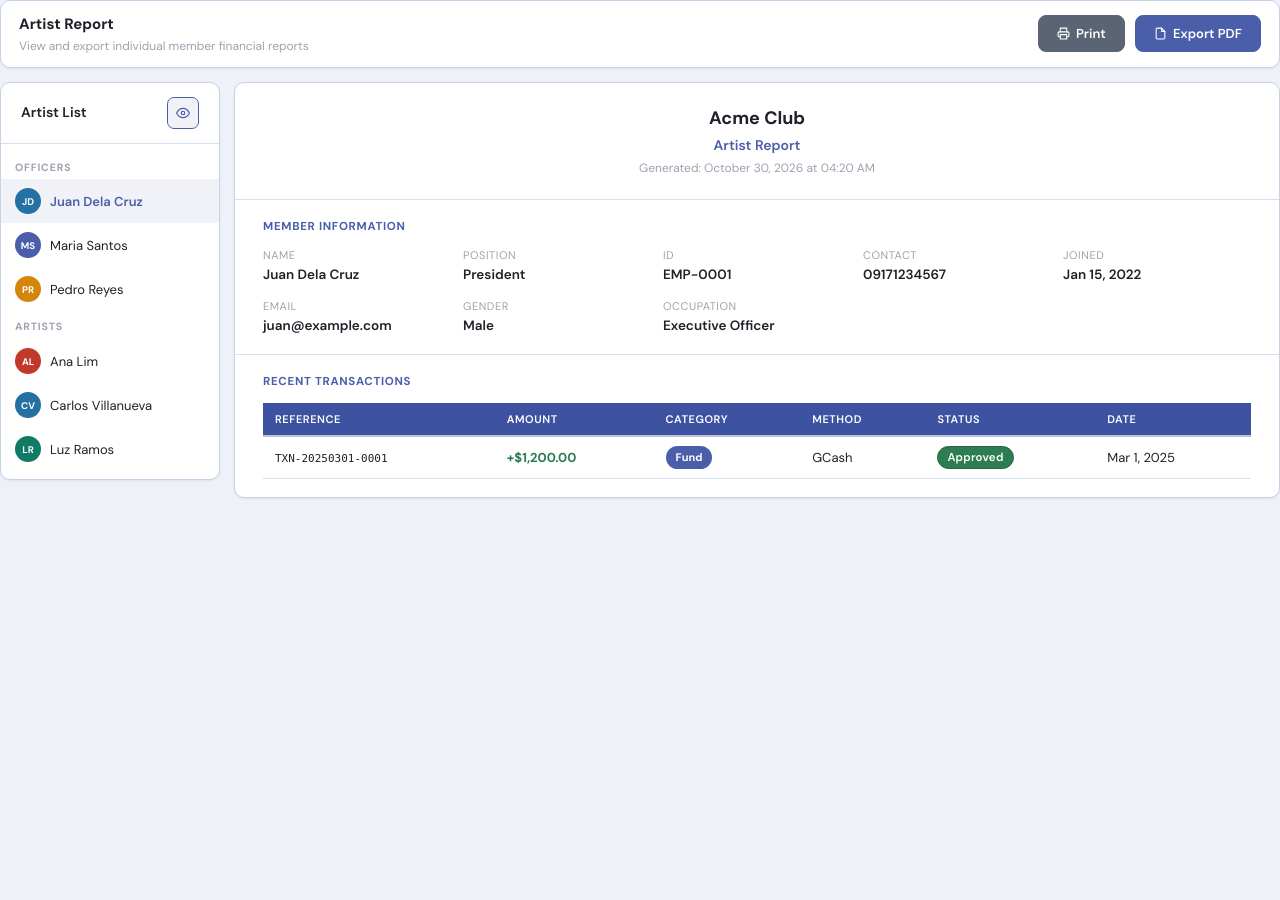
Test: Employee Report wording (B-53) and org name in report headers (B-36) › the export confirmation title uses the label
Click the button "Export PDF" at (1198, 34), box [1135, 15, 1261, 52]
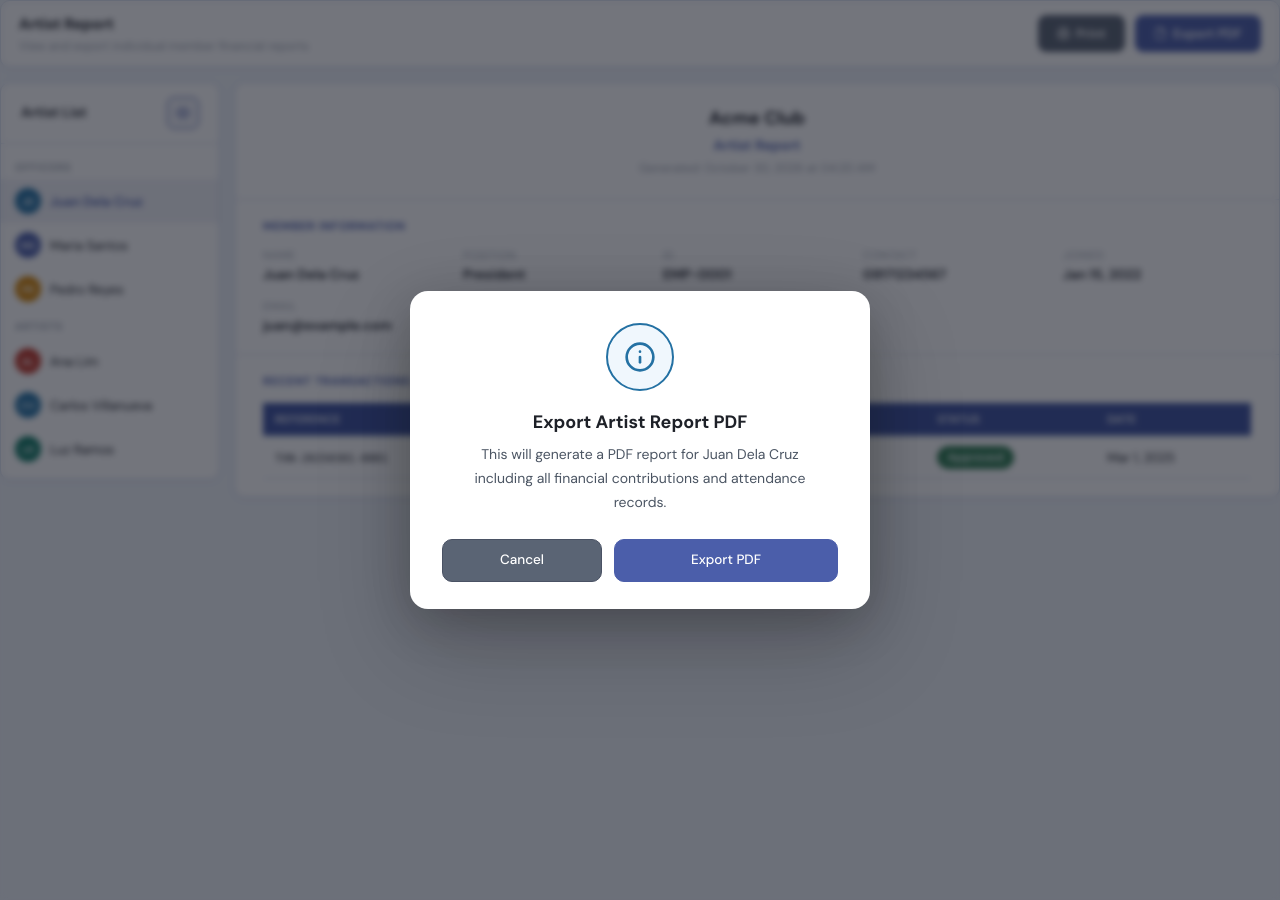
Result: the text "Export Artist Report PDF" is shown at [533, 410, 747, 434]
